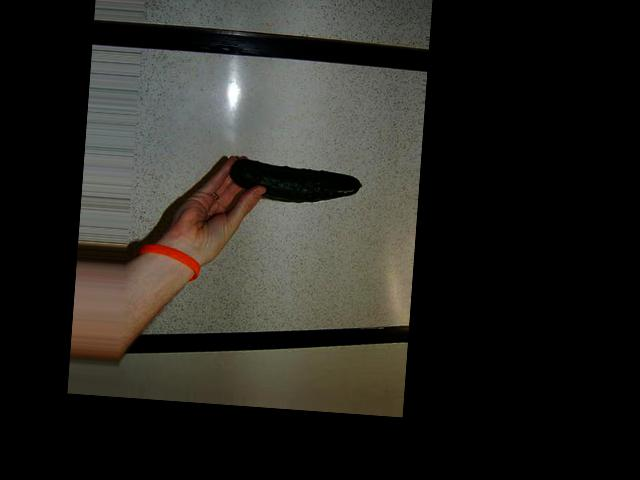cucumber: (228, 157, 363, 205)
